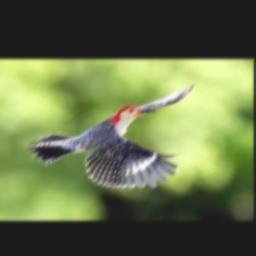Woodpecker: (28, 83, 194, 188)
